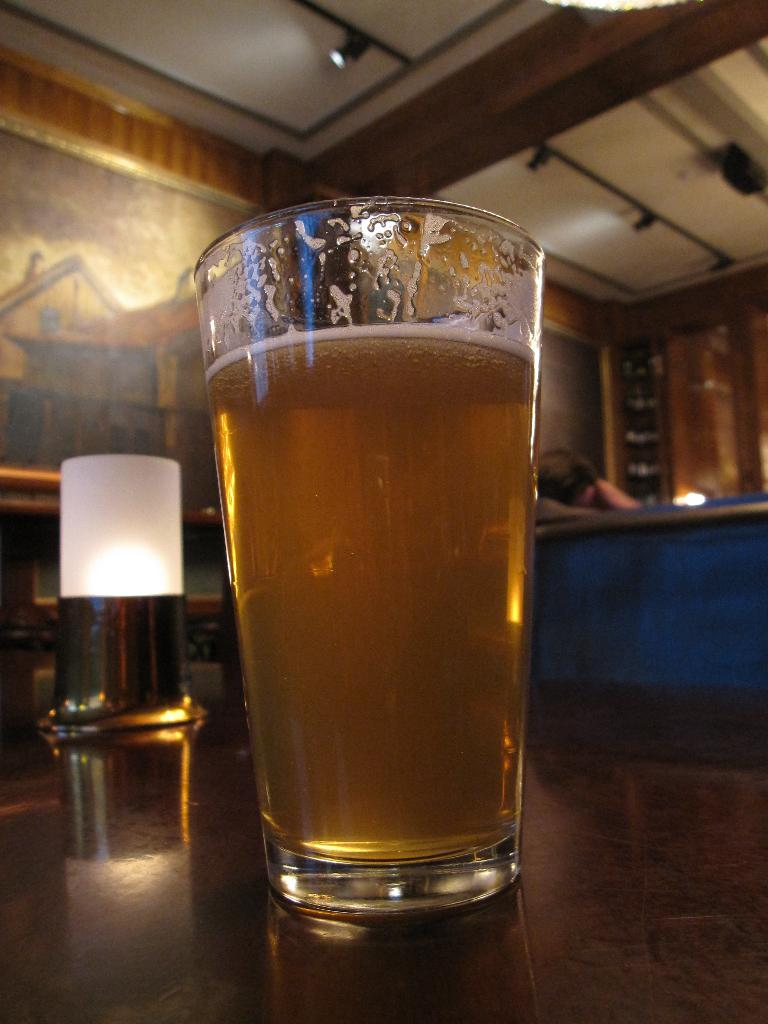Beer: (204, 320, 538, 866)
